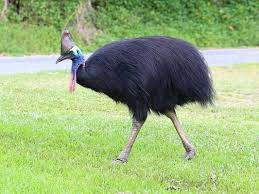Walking: (39, 19, 225, 172)
